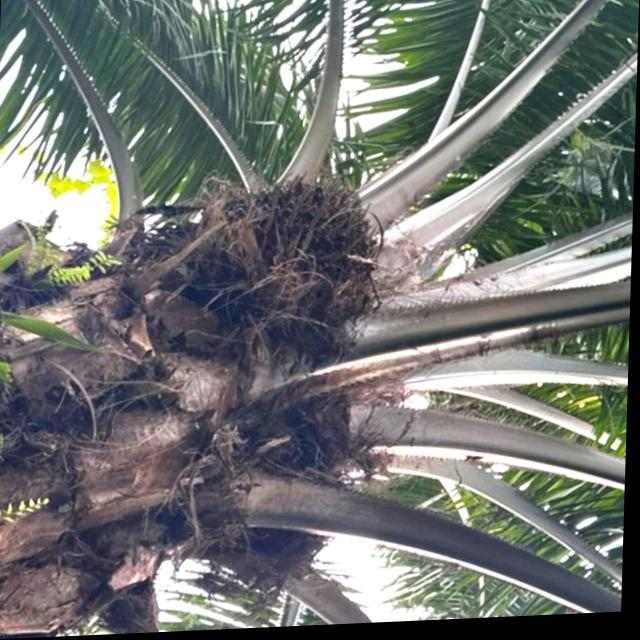ripe: (221, 174, 388, 342)
